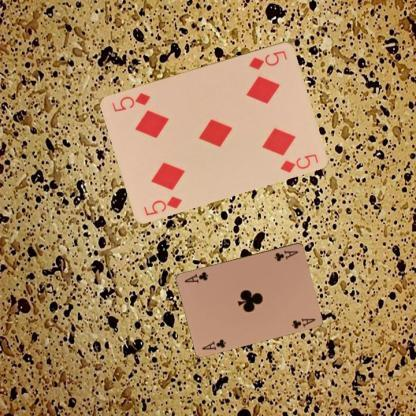5d: (246, 48, 289, 70), (141, 194, 184, 216)
Ac: (199, 336, 227, 352), (272, 248, 299, 262)
